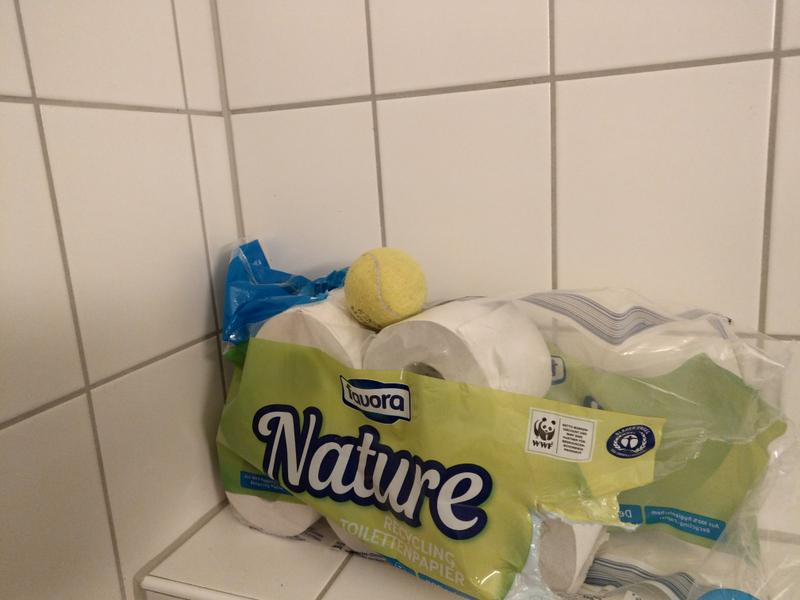Tennisball: (341, 244, 431, 332)
